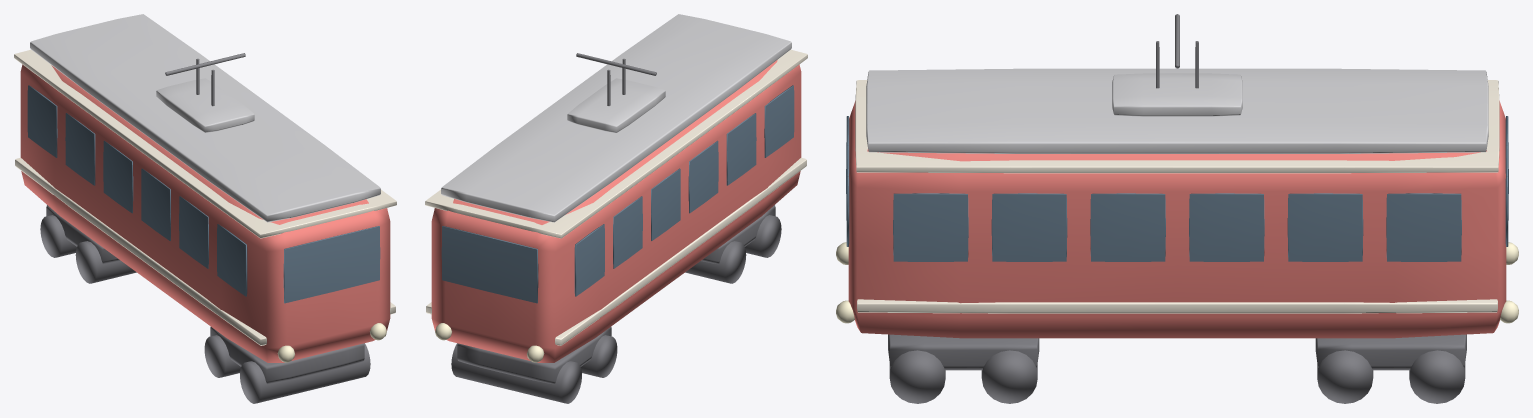
The model's file is StruggleTram.glb.
3 renders of one model, left to right at view 1: azimuth 30°, elevation 25°; view 2: azimuth 150°, elevation 25°; view 3: azimuth 270°, elevation 25°, orthographic. The views are drawn at different scales.
Visible parts, largest first — view 1: Body, Roof, Windows, Bogies, Stripe, Pantograph, Lamps; view 2: Body, Roof, Windows, Bogies, Stripe, Pantograph, Lamps; view 3: Body, Roof, Windows, Stripe, Bogies, Lamps, Pantograph.
Part boxes in pixels (bbox=[...]): Body: bbox=[20, 64, 390, 362]; Roof: bbox=[30, 14, 380, 222]; Windows: bbox=[27, 85, 380, 303]; Bogies: bbox=[40, 205, 370, 403]; Stripe: bbox=[14, 49, 396, 345]; Pantograph: bbox=[165, 53, 245, 106]; Lamps: bbox=[277, 323, 386, 362]; Body: bbox=[431, 60, 801, 362]; Roof: bbox=[441, 14, 791, 222]; Windows: bbox=[441, 85, 794, 303]; Bogies: bbox=[451, 205, 781, 403]; Stripe: bbox=[425, 49, 807, 345]; Pantograph: bbox=[576, 53, 656, 105]; Lamps: bbox=[435, 323, 544, 362]; Body: bbox=[848, 100, 1506, 338]; Roof: bbox=[866, 68, 1488, 153]; Windows: bbox=[846, 116, 1508, 261]; Stripe: bbox=[855, 80, 1499, 313]; Bogies: bbox=[888, 334, 1466, 403]; Lamps: bbox=[836, 242, 1518, 323]; Pantograph: bbox=[1156, 14, 1198, 88].
Bounding box in the file's own units: 6.34 × 11.08 × 20.77.
